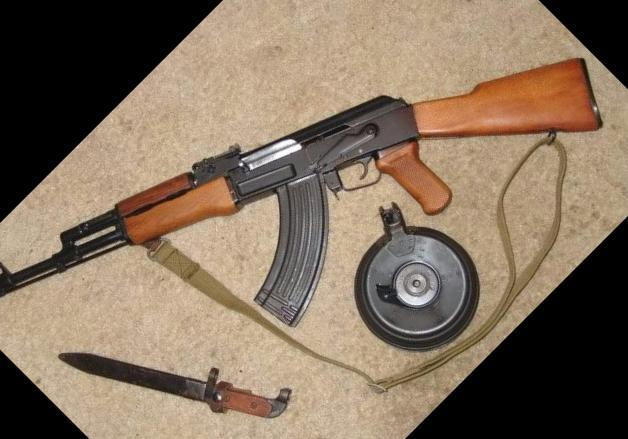larga: (0, 58, 604, 328)
